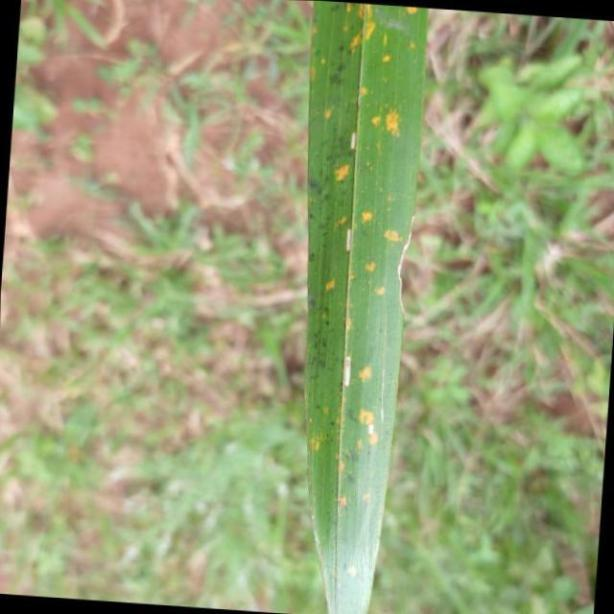Kalium: (303, 1, 428, 614)
